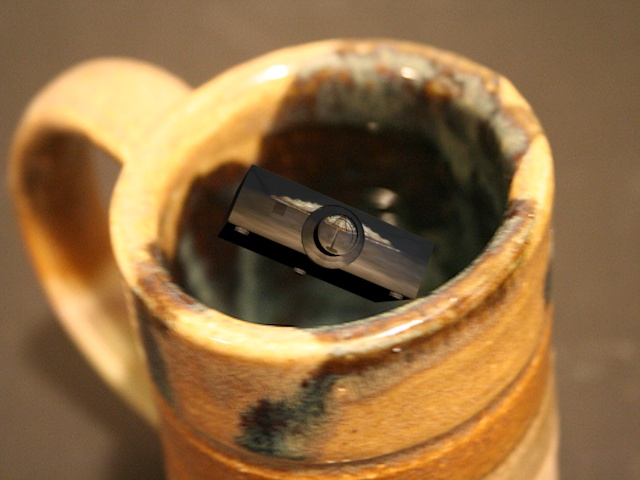projector: (209, 161, 440, 305)
